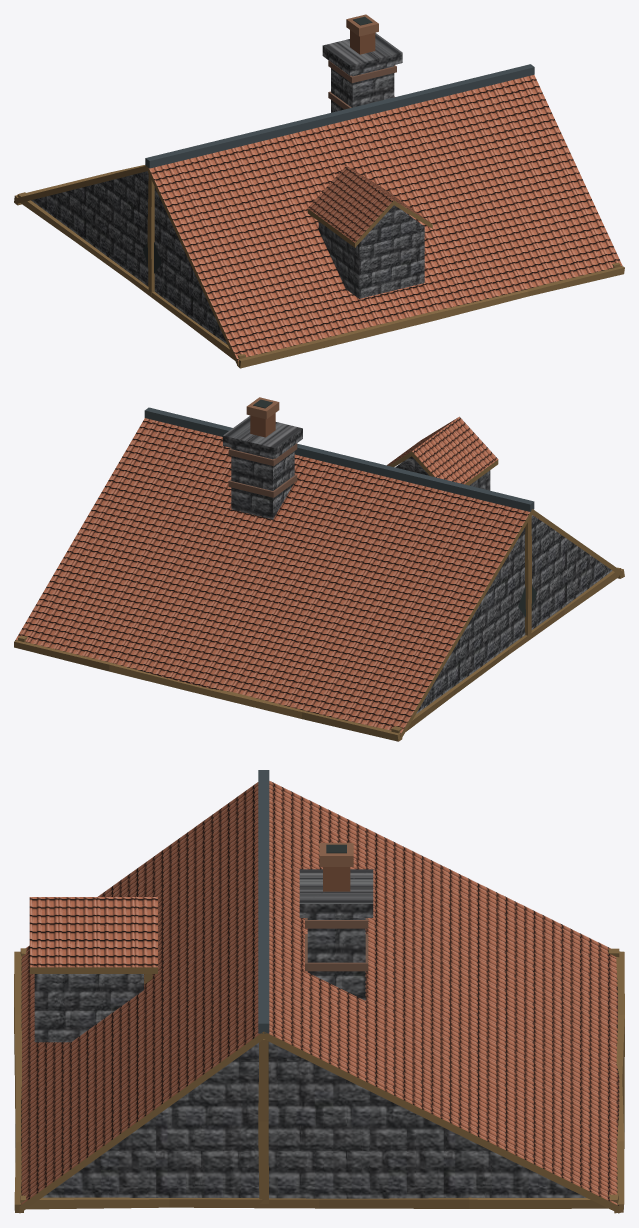
Rendered from town_Roof_04_saltbox.glb.
The picture shows the model from 3 angles, top to bottom: view 1: azimuth 30°, elevation 25°; view 2: azimuth 150°, elevation 25°; view 3: azimuth 270°, elevation 25°; orthographic projection. The views are drawn at different scales.
Parts seen in each view (by area): view 1: town_Roof_04_saltbox.005; view 2: town_Roof_04_saltbox.005; view 3: town_Roof_04_saltbox.005.
Part boxes in pixels (<box>): town_Roof_04_saltbox.005: <box>14,14,624,368</box>; town_Roof_04_saltbox.005: <box>14,397,624,741</box>; town_Roof_04_saltbox.005: <box>14,770,624,1213</box>.
Size of the model in its own units: 7 by 3.49 by 7.13.
Materials: 3 (2 with a texture image).
